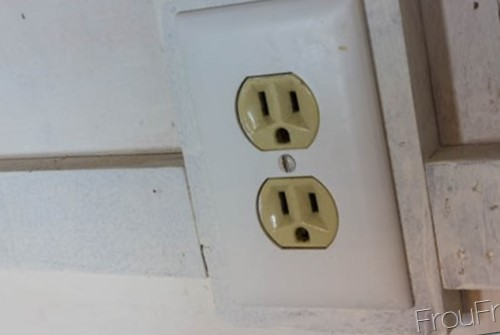outlet: (248, 83, 305, 148), (269, 181, 323, 247)
